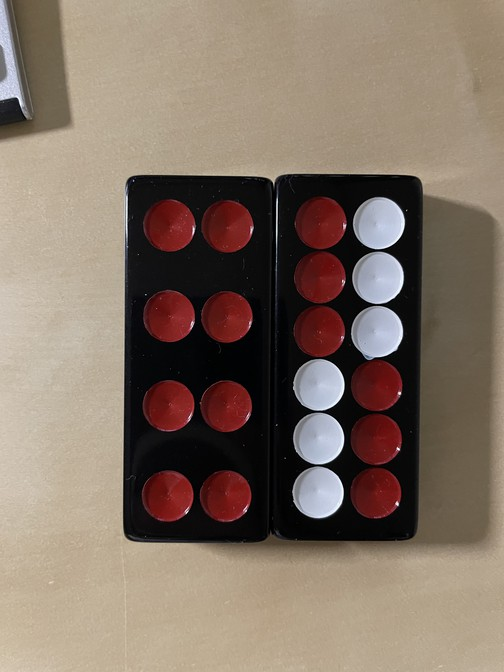heaven: (274, 176, 420, 541)
man: (127, 178, 273, 544)
